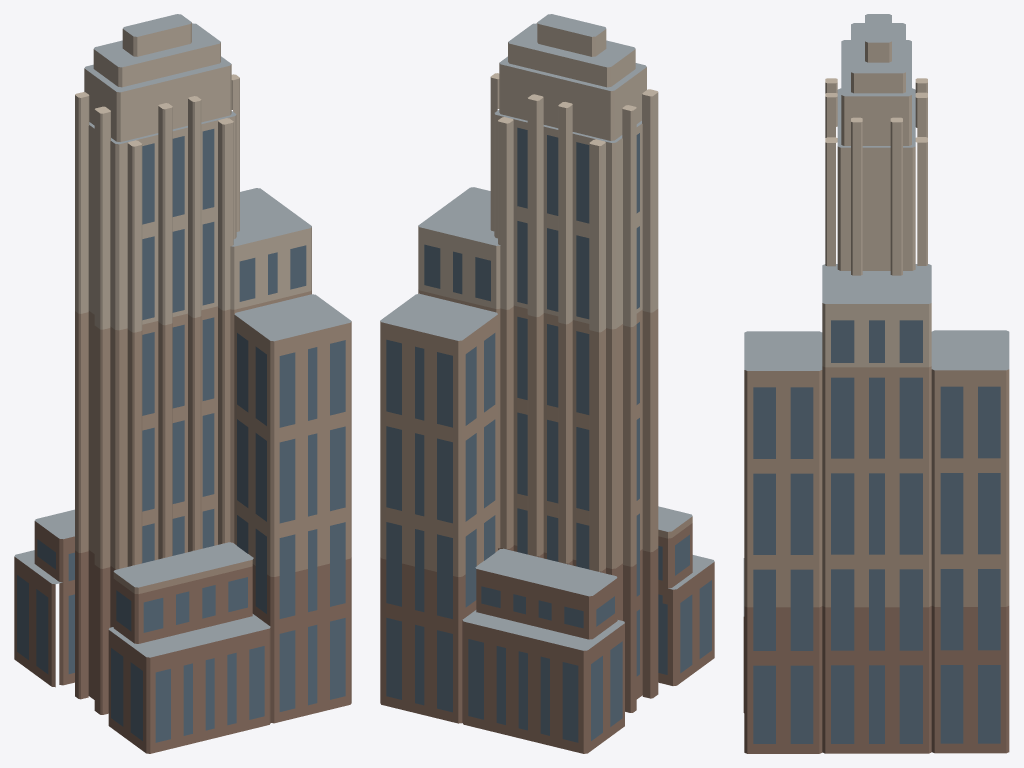
File: sea-seattle-tower.glb
The picture shows the model from 3 angles, left to right: view 1: azimuth 30°, elevation 25°; view 2: azimuth 150°, elevation 25°; view 3: azimuth 270°, elevation 25°; orthographic projection.
Visible parts, largest first — view 1: Seattle Tower; view 2: Seattle Tower; view 3: Seattle Tower.
Part boxes in pixels (box(x1,y1,x2,y2)): Seattle Tower: box(14, 14, 351, 753); Seattle Tower: box(380, 14, 714, 753); Seattle Tower: box(743, 14, 1009, 753).
Bounding box in the file's own units: 32.9 × 99.5 × 36.25.
